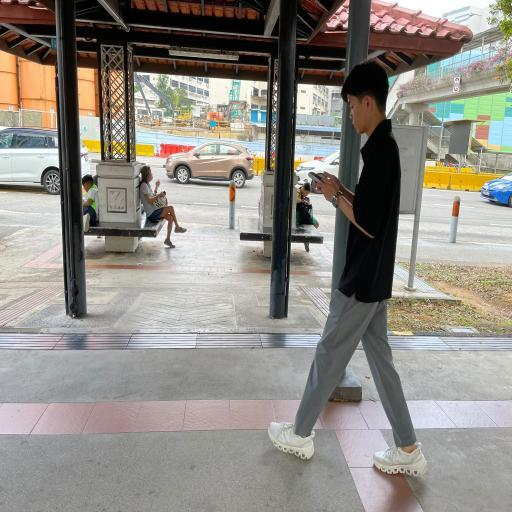person_left: (268, 61, 426, 475)
